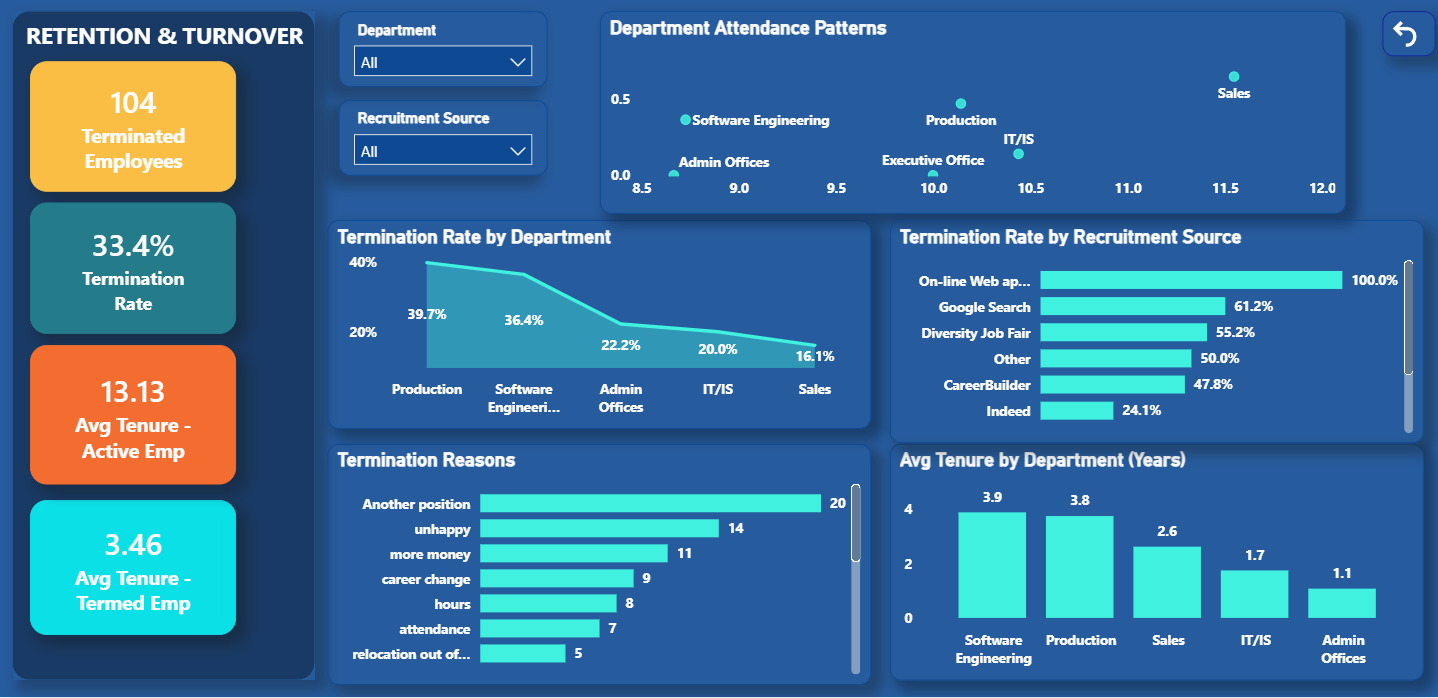

Layout of this report page (visuals, bound fields, positions):
{"tool":"powerbi","page":{"name":"Retention & Turnover","canvas":[1280,620],"ordinal":2},"visuals":[{"type":"shape","box":[11.4,10,268.6,594.3],"z":0},{"type":"cardVisual","fields":{"Data":["hr_analytics fact_employee.Terminated Employees"]},"box":[27.1,54.3,182.9,115.7],"z":1000},{"type":"cardVisual","fields":{"Data":["hr_analytics fact_employee.Termination Rate"]},"box":[27.1,180,182.9,117.1],"z":2000},{"type":"cardVisual","fields":{"Data":["hr_analytics fact_employee.Avg Tenure - Termed Emp"]},"box":[27.1,444.3,182.9,120],"z":3000},{"type":"cardVisual","fields":{"Data":["hr_analytics fact_employee.Avg Tenure - Active Emp"]},"box":[27.1,307.1,182.9,124.3],"z":4000},{"type":"clusteredBarChart","title":"Termination Reasons","fields":{"Category":["hr_analytics fact_employee.TermReason"],"Y":["CountNonNull(hr_analytics fact_employee.EmpID)"]},"box":[291.4,394.3,482.9,214.3],"z":5000},{"type":"stackedAreaChart","title":"Termination Rate by Department","fields":{"Category":["hr_analytics dim_department.Department"],"Y":["hr_analytics fact_employee.Termination Rate"]},"box":[291.4,195.7,482.9,185.7],"z":6000},{"type":"clusteredColumnChart","title":"Avg Tenure by Department (Years)","fields":{"Category":["hr_analytics dim_department.Department"],"Y":["hr_analytics fact_employee.Avg Tenure - Termed Emp"]},"box":[791.4,394.3,474.3,210],"z":7000},{"type":"scatterChart","title":" Department Attendance Patterns","fields":{"Category":["hr_analytics dim_department.Department"],"X":["hr_analytics fact_employee.Avg Absenses"],"Y":["hr_analytics fact_employee.Avg Late Days"]},"box":[532.9,10,662.9,180],"z":8000},{"type":"clusteredBarChart","title":"Termination Rate by Recruitment Source","fields":{"Category":["hr_analytics fact_employee.RecruitmentSource"],"Y":["hr_analytics fact_employee.Termination Rate"]},"box":[791.4,195.7,474.3,198.6],"z":9000},{"type":"slicer","fields":{"Values":["hr_analytics dim_department.Department"]},"box":[301.4,10,185.7,67.1],"z":10000},{"type":"slicer","fields":{"Values":["hr_analytics fact_employee.RecruitmentSource"]},"box":[301.4,88.6,185.7,67.1],"z":11000},{"type":"actionButton","box":[1228.6,10,47.1,40],"z":12000}]}

Visuals, with their boxes in screenshot pixels (x1, y1, x2, y2), scaled from the page's 1280x620 canvas onto the 1438x698 screenshot:
shape: BBox(13, 11, 315, 680)
cardVisual - hr_analytics fact_employee.Terminated Employees: BBox(30, 61, 236, 191)
cardVisual - hr_analytics fact_employee.Termination Rate: BBox(30, 203, 236, 334)
cardVisual - hr_analytics fact_employee.Avg Tenure - Termed Emp: BBox(30, 500, 236, 635)
cardVisual - hr_analytics fact_employee.Avg Tenure - Active Emp: BBox(30, 346, 236, 486)
"Termination Reasons" clusteredBarChart: BBox(327, 444, 870, 685)
"Termination Rate by Department" stackedAreaChart: BBox(327, 220, 870, 429)
"Avg Tenure by Department (Years)" clusteredColumnChart: BBox(889, 444, 1422, 680)
" Department Attendance Patterns" scatterChart: BBox(599, 11, 1343, 214)
"Termination Rate by Recruitment Source" clusteredBarChart: BBox(889, 220, 1422, 444)
slicer - hr_analytics dim_department.Department: BBox(339, 11, 547, 87)
slicer - hr_analytics fact_employee.RecruitmentSource: BBox(339, 100, 547, 175)
actionButton: BBox(1380, 11, 1433, 56)
